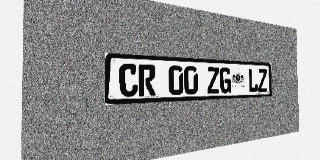0: (168, 65, 184, 95), (184, 66, 198, 95)
C: (119, 63, 138, 97)
G: (220, 67, 231, 93)
L: (248, 68, 258, 92)
R: (138, 64, 156, 96)
Z: (207, 67, 219, 94), (258, 69, 267, 92)
